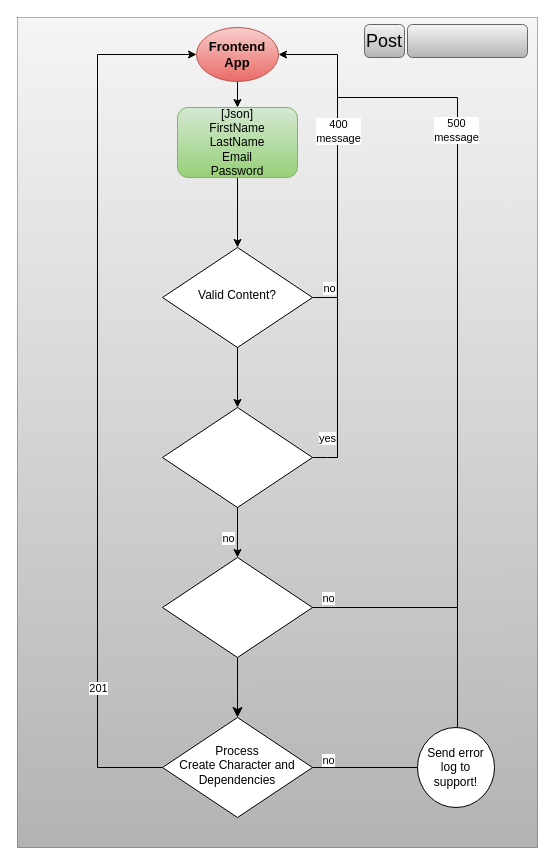
Some shapes in this 555 by 865 pixel diagram are drawn without their labels. The shapes that lost their labels are listed below. From the top down, each one's centre as x and y in pixels, then its label:
At pixel 467 41: "/customers".
At pixel 237 457: "Email exist in database?".
At pixel 237 607: "Process Create Account".
